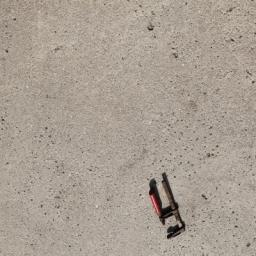FOD: (146, 168, 190, 242)
